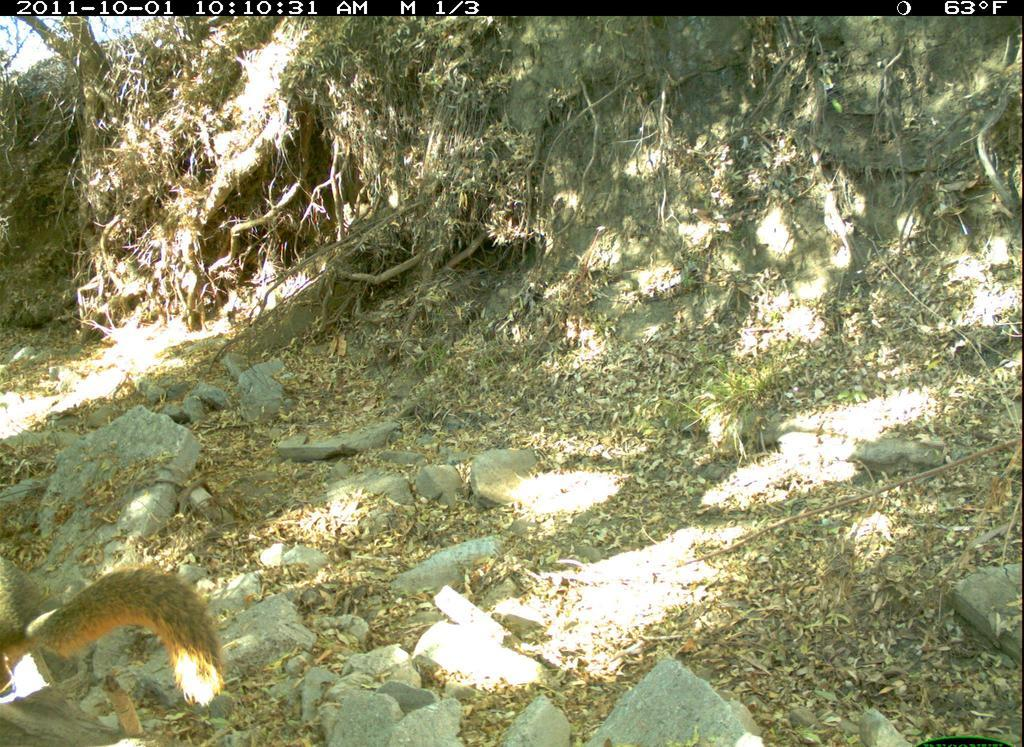squirrel: (2, 553, 227, 728)
